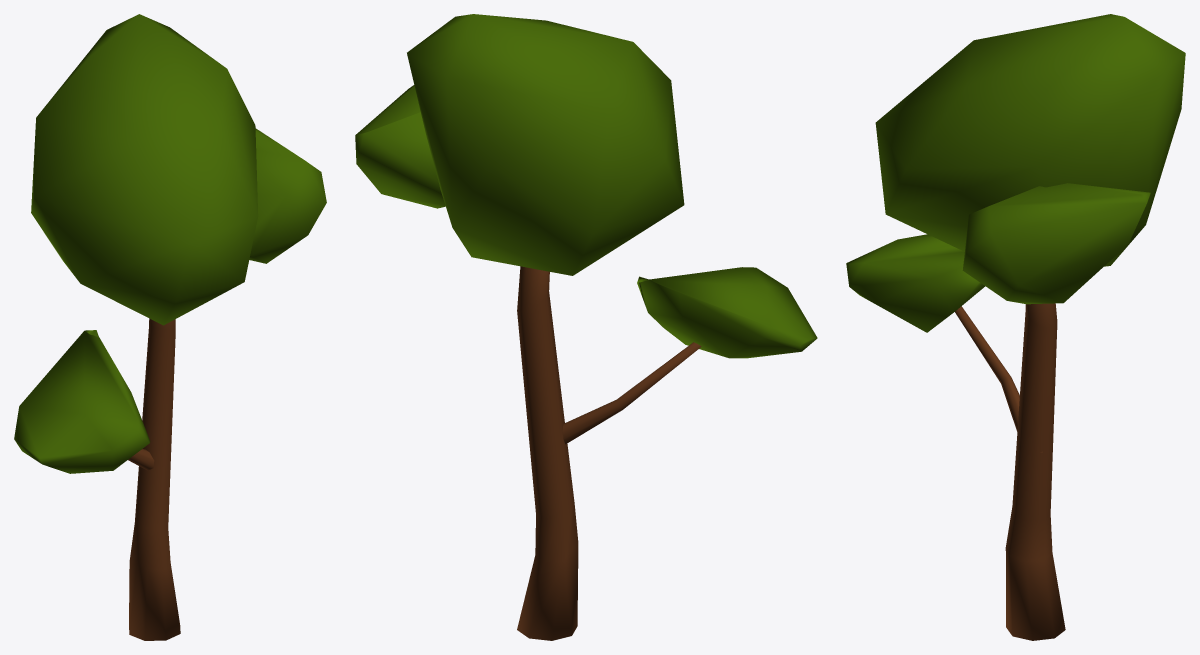
The model's file is tree1.fbx.
3 renders of one model, left to right at view 1: azimuth 30°, elevation 25°; view 2: azimuth 150°, elevation 25°; view 3: azimuth 270°, elevation 25°, orthographic. The views are drawn at different scales.
Parts seen in each view (by area): view 1: Circle.011; view 2: Circle.011; view 3: Circle.011.
Boxes of the visible parts, x1,y1,x2,y2 form: Circle.011: (14,14,326,640); Circle.011: (355,14,817,640); Circle.011: (846,14,1185,640).
Bounding box in the file's own units: 381 × 625 × 307.
